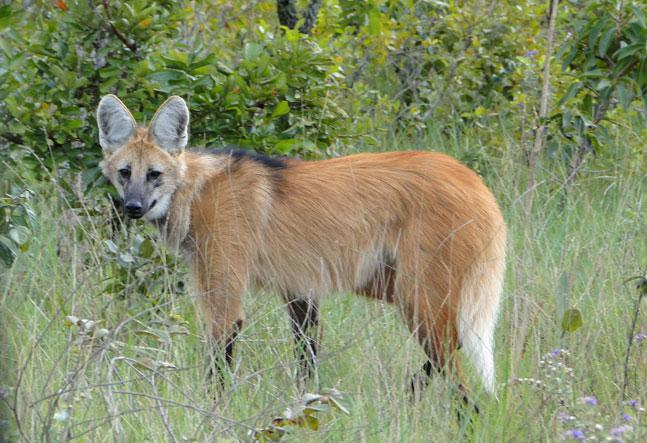LoboGuara: (89, 90, 515, 408)
